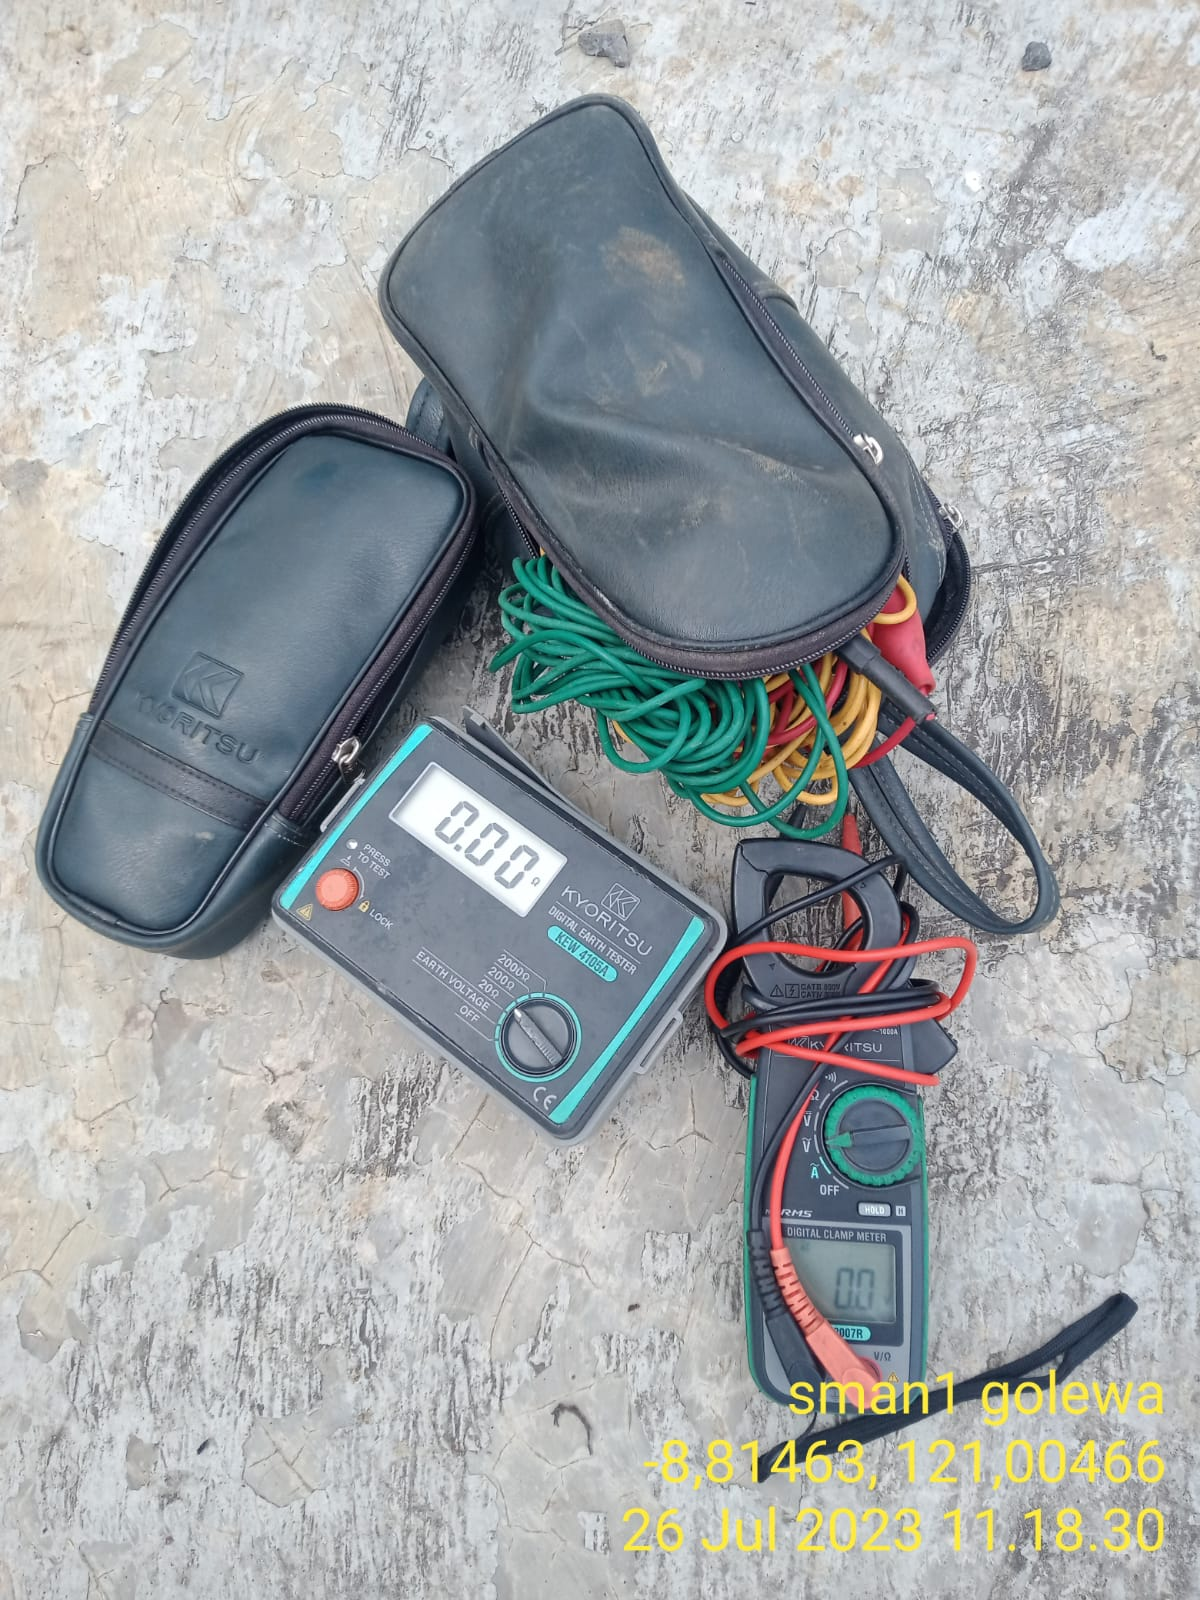EARTH_GROUNDING_TESTER: (268, 709, 730, 1146)
TANG_AMPERE: (720, 833, 964, 1380)
